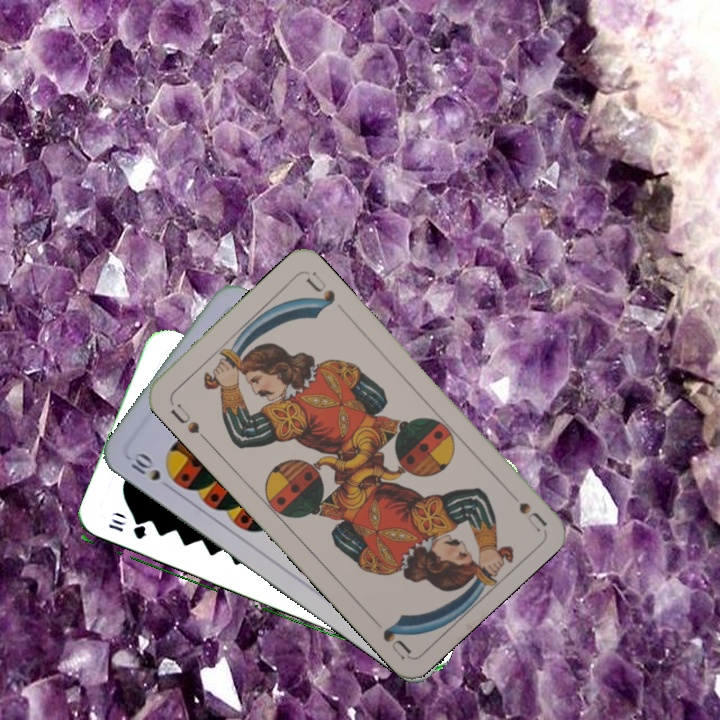G10: (104, 514, 149, 542)
S10: (123, 448, 176, 493)
SU: (500, 483, 549, 534), (166, 397, 211, 445)
